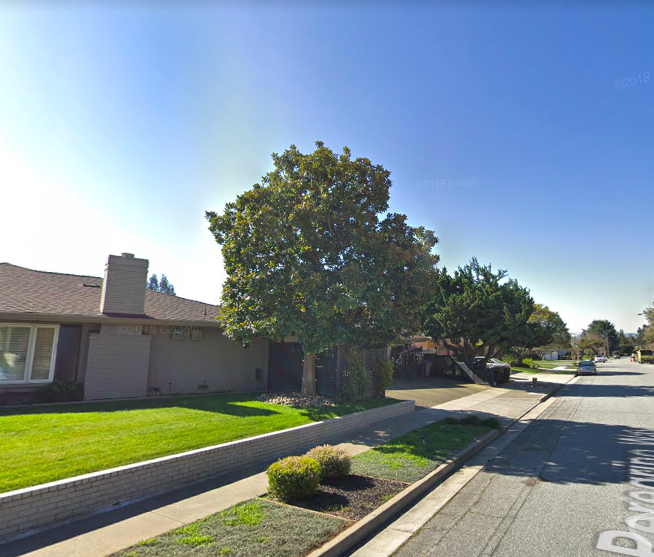tree: (204, 139, 439, 397)
